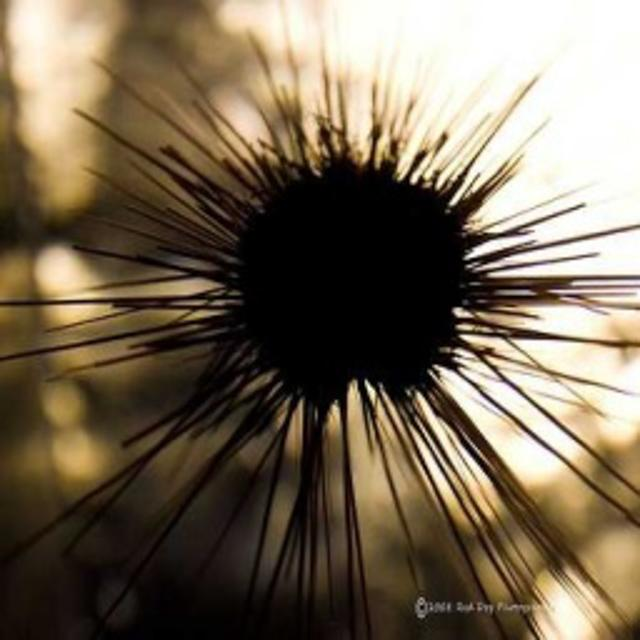Urchin: (11, 32, 640, 636)
